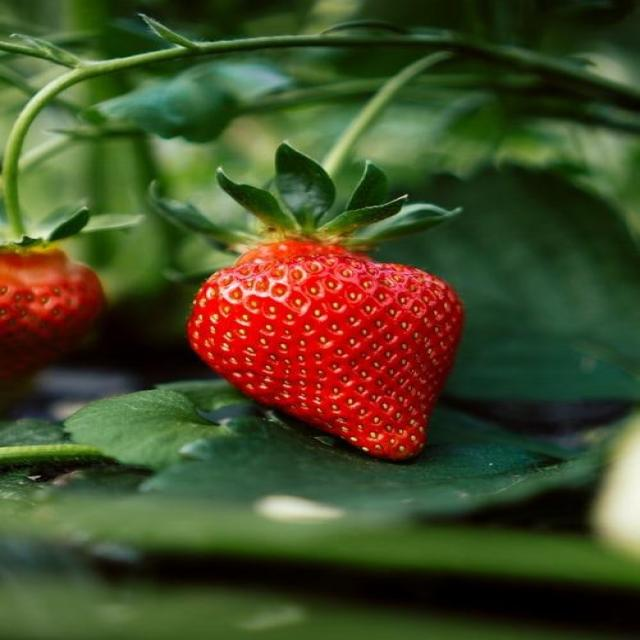mature: (189, 242, 463, 458)
